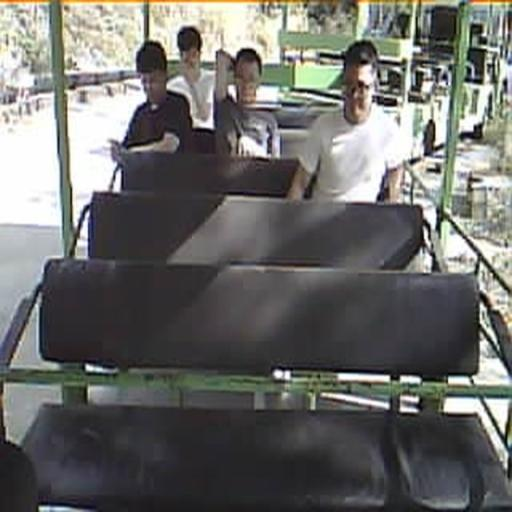persona: (288, 39, 408, 204), (115, 39, 194, 156), (212, 47, 282, 159), (166, 25, 220, 130)
